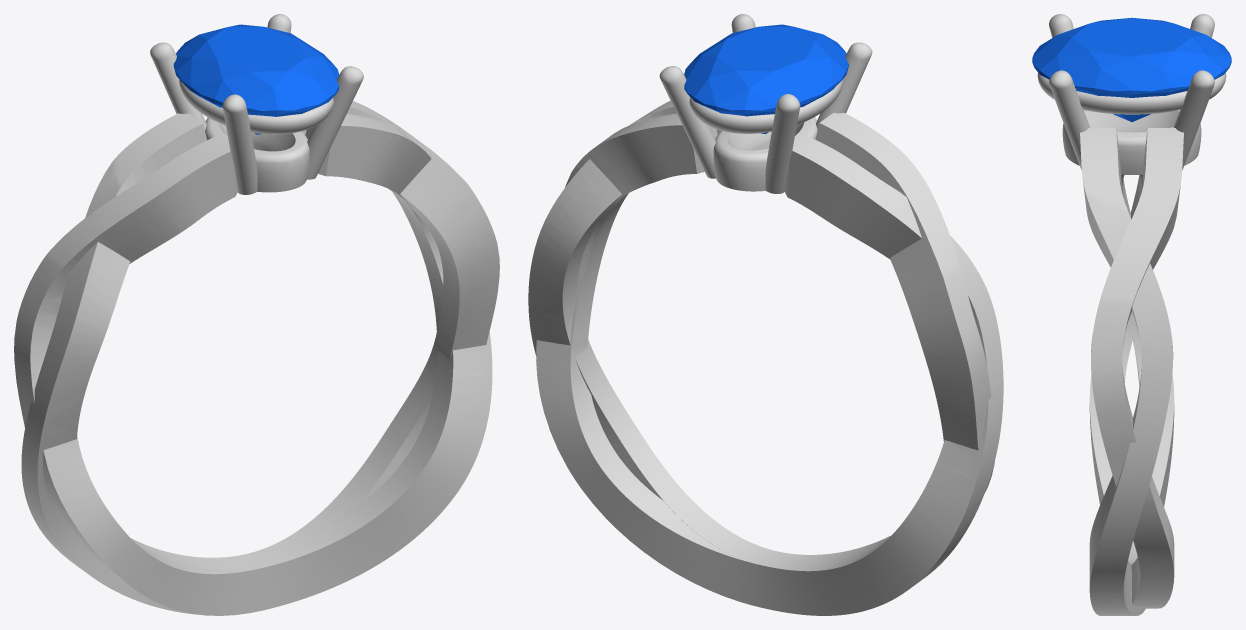
File: bluesapphire-oval-platinum-4prong-twist-nosidestones.glb
The picture shows the model from 3 angles, left to right: view 1: azimuth 30°, elevation 25°; view 2: azimuth 150°, elevation 25°; view 3: azimuth 270°, elevation 25°; orthographic projection.
Visible parts, largest first — view 1: metal, stone; view 2: metal, stone; view 3: metal, stone.
Part boxes in pixels (bbox=[...]): metal: bbox=[14, 14, 499, 615]; stone: bbox=[173, 24, 339, 134]; metal: bbox=[528, 14, 1003, 615]; stone: bbox=[684, 24, 848, 133]; metal: bbox=[1037, 14, 1226, 615]; stone: bbox=[1032, 17, 1231, 121].
Size of the model in its own units: 19.97 by 23.31 by 7.64.
